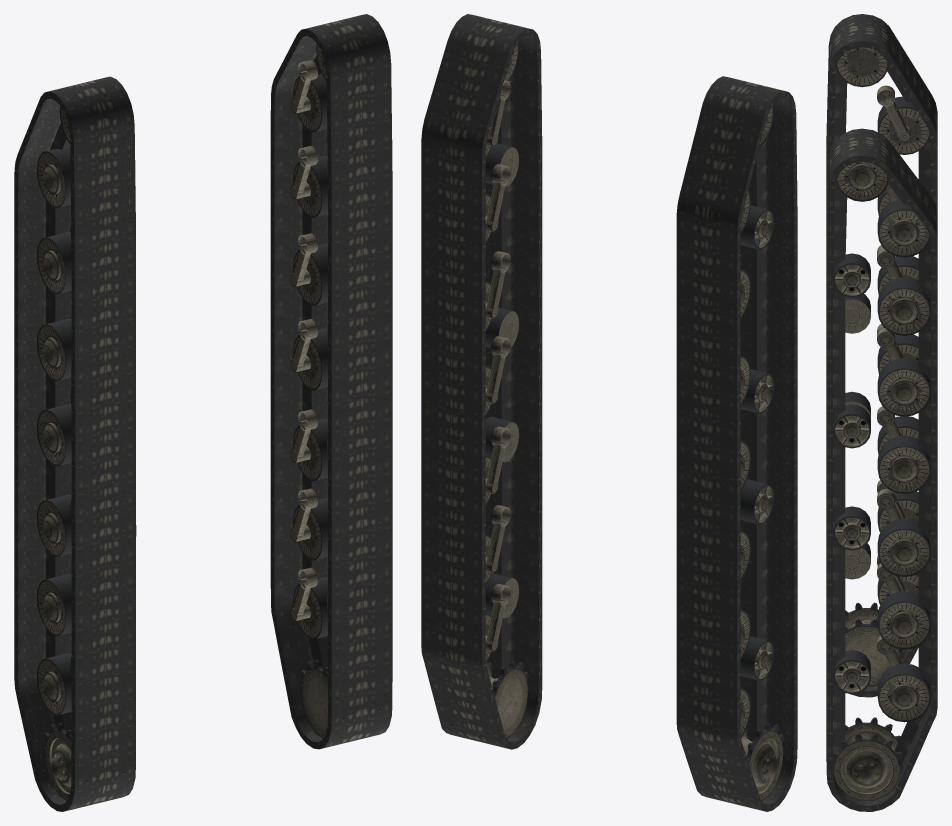
Rendered from Chassis.glb.
3 renders of one model, left to right at view 1: azimuth 30°, elevation 25°; view 2: azimuth 150°, elevation 25°; view 3: azimuth 270°, elevation 25°, orthographic. The views are drawn at different scales.
Parts seen in each view (by area): view 1: set_0_group_0, set_1_group_0, set_3_group_0, set_2_group_0; view 2: set_0_group_0, set_1_group_0, set_3_group_0, set_2_group_0; view 3: set_3_group_0, set_1_group_0, set_2_group_0, set_0_group_0.
Part boxes in pixels (left/top/right/bottom): set_0_group_0: left=14, top=76, right=136, bottom=811; set_1_group_0: left=270, top=14, right=392, bottom=749; set_3_group_0: left=290, top=43, right=381, bottom=738; set_2_group_0: left=37, top=106, right=124, bottom=801; set_0_group_0: left=676, top=76, right=797, bottom=811; set_1_group_0: left=421, top=14, right=542, bottom=749; set_3_group_0: left=450, top=43, right=528, bottom=738; set_2_group_0: left=740, top=105, right=783, bottom=800; set_3_group_0: left=833, top=162, right=930, bottom=801; set_1_group_0: left=826, top=128, right=937, bottom=811; set_2_group_0: left=836, top=47, right=930, bottom=686; set_0_group_0: left=826, top=14, right=937, bottom=697.
Bounding box in the file's own units: 3.39 × 7.31 × 1.13.
Materials: 4 (4 with a texture image).
